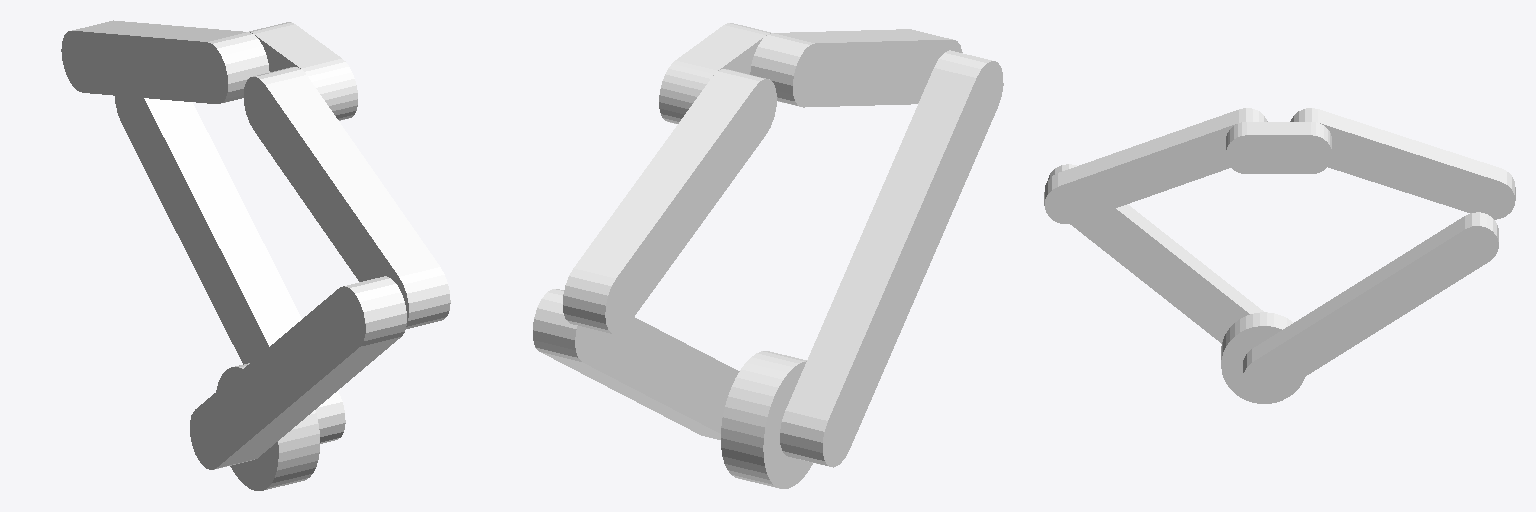
URDF robot description (five_bar_link_wheel):
<?xml version="1.0"?>
<!-- This URDF was automatically created by SolidWorks to URDF Exporter! Originally created by [author] ([email redacted]) 
     Commit Version: 1.6.0-4-g7f85cfe  Build Version: 1.6.7995.38578
     For more information, please see http://wiki.ros.org/sw_urdf_exporter -->
<robot
  name="five_bar_link_wheel">
  <link
    name="base_link">
    <inertial>
      <origin
        xyz="-0.0075 -1.73472347597681E-18 8.67361737988404E-19"
        rpy="0 0 0" />
      <mass
        value="0.0135623889803847" />
      <inertia
        ixx="2.78766795156418E-06"
        ixy="-1.71652986887127E-23"
        ixz="2.95359259330312E-23"
        iyy="6.6710451789183E-07"
        iyz="1.1172040840076E-22"
        izz="2.62915302043677E-06" />
    </inertial>
    <visual>
      <origin
        xyz="0 0 0"
        rpy="0 0 0" />
      <geometry>
        <mesh
          filename="package://five_bar_link/meshes/base_link.STL" />
      </geometry>
      <material
        name="">
        <color
          rgba="1 1 1 1" />
      </material>
    </visual>
    <collision>
      <origin
        xyz="0 0 0"
        rpy="0 0 0" />
      <geometry>
        <mesh
          filename="package://five_bar_link/meshes/base_link.STL" />
      </geometry>
    </collision>
  </link>
  <link
    name="HipLegLeft_Link">
    <inertial>
      <origin
        xyz="0.0385915389101049 0.0231450453564016 -0.00750000000000001"
        rpy="0 0 0" />
      <mass
        value="0.0317123889803847" />
      <inertia
        ixx="9.19613534897071E-06"
        ixy="-1.26449249310354E-05"
        ixz="5.1702299476663E-22"
        iyy="2.2696286372092E-05"
        iyz="-7.81584121835968E-23"
        izz="3.07032071342983E-05" />
    </inertial>
    <visual>
      <origin
        xyz="0 0 0"
        rpy="0 0 0" />
      <geometry>
        <mesh
          filename="package://five_bar_link/meshes/HipLegLeft_Link.STL" />
      </geometry>
      <material
        name="">
        <color
          rgba="1 1 1 1" />
      </material>
    </visual>
    <collision>
      <origin
        xyz="0 0 0"
        rpy="0 0 0" />
      <geometry>
        <mesh
          filename="package://five_bar_link/meshes/HipLegLeft_Link.STL" />
      </geometry>
    </collision>
  </link>
  <joint
    name="HipLegLeft_Joint"
    type="revolute">
    <origin
      xyz="-0.03 0.01475 0"
      rpy="-1.5708 0 1.5708" />
    <parent
      link="base_link" />
    <child
      link="HipLegLeft_Link" />
    <axis
      xyz="0 0 1" />
    <limit
      lower="-1"
      upper="1"
      effort="0"
      velocity="0" />
  </joint>
  <link
    name="KneelLegLeft_Link">
    <inertial>
      <origin
        xyz="0.0600000000000001 6.10622663543836E-16 0.00749999999999999"
        rpy="0 0 0" />
      <mass
        value="0.0407123889803848" />
      <inertia
        ixx="2.08116701789183E-06"
        ixy="4.34104385467829E-21"
        ixz="3.25026889091675E-22"
        iyy="6.34457673472768E-05"
        iyz="3.66564838745911E-23"
        izz="6.40002197784042E-05" />
    </inertial>
    <visual>
      <origin
        xyz="0 0 0"
        rpy="0 0 0" />
      <geometry>
        <mesh
          filename="package://five_bar_link/meshes/KneelLegLeft_Link.STL" />
      </geometry>
      <material
        name="">
        <color
          rgba="1 1 1 1" />
      </material>
    </visual>
    <collision>
      <origin
        xyz="0 0 0"
        rpy="0 0 0" />
      <geometry>
        <mesh
          filename="package://five_bar_link/meshes/KneelLegLeft_Link.STL" />
      </geometry>
    </collision>
  </link>
  <joint
    name="KneelLegLeft_Joint"
    type="revolute">
    <origin
      xyz="0.077183 0.04629 -0.03"
      rpy="0 0 2.5378" />
    <parent
      link="HipLegLeft_Link" />
    <child
      link="KneelLegLeft_Link" />
    <axis
      xyz="0 0 1" />
    <limit
      lower="-1"
      upper="1"
      effort="0"
      velocity="0" />
  </joint>
  <link
    name="Wheel_Link">
    <inertial>
      <origin
        xyz="0 0 -0.00750000000000001"
        rpy="0 0 0" />
      <mass
        value="0.0188495559215387" />
      <inertia
        ixx="2.23838476568273E-06"
        ixy="-3.64210794158237E-41"
        ixz="7.80738329970698E-23"
        iyy="2.23838476568273E-06"
        iyz="7.10087278435785E-23"
        izz="3.76991118430775E-06" />
    </inertial>
    <visual>
      <origin
        xyz="0 0 0"
        rpy="0 0 0" />
      <geometry>
        <mesh
          filename="package://five_bar_link/meshes/Wheel_Link.STL" />
      </geometry>
      <material
        name="">
        <color
          rgba="1 1 1 1" />
      </material>
    </visual>
    <collision>
      <origin
        xyz="0 0 0"
        rpy="0 0 0" />
      <geometry>
        <mesh
          filename="package://five_bar_link/meshes/Wheel_Link.STL" />
      </geometry>
    </collision>
  </link>

  <joint
    name="Wheel_Joint"
    type="continuous">
    <origin
      xyz="0.12 0 0.03"
      rpy="0 0 0" />
    <parent
      link="KneelLegLeft_Link" />
    <child
      link="Wheel_Link" />
    <axis
      xyz="0 0 1" />
  </joint>
  <link
    name="HipLegRight_Link">
    <inertial>
      <origin
        xyz="0.0413172682255292 -0.0178292833950133 -0.00750000000000001"
        rpy="0 0 0" />
      <mass
        value="0.0317123889803847" />
      <inertia
        ixx="6.11263860111646E-06"
        ixy="1.04287344650325E-05"
        ixz="1.6561530048464E-21"
        iyy="2.57797831199463E-05"
        iyz="-3.8721004588062E-22"
        izz="3.07032071342983E-05" />
    </inertial>
    <visual>
      <origin
        xyz="0 0 0"
        rpy="0 0 0" />
      <geometry>
        <mesh
          filename="package://five_bar_link/meshes/HipLegRight_Link.STL" />
      </geometry>
      <material
        name="">
        <color
          rgba="1 1 1 1" />
      </material>
    </visual>
    <collision>
      <origin
        xyz="0 0 0"
        rpy="0 0 0" />
      <geometry>
        <mesh
          filename="package://five_bar_link/meshes/HipLegRight_Link.STL" />
      </geometry>
    </collision>
  </link>
  <joint
    name="HipLegRight_Joint"
    type="revolute">
    <origin
      xyz="-0.03 -0.01475 0"
      rpy="1.5708 0 -1.5708" />
    <parent
      link="base_link" />
    <child
      link="HipLegRight_Link" />
    <axis
      xyz="0 0 1" />
    <limit
      lower="-1"
      upper="1"
      effort="0"
      velocity="0" />
  </joint>
  <link
    name="KneelLegRight_Link">
    <inertial>
      <origin
        xyz="0.0599999999999999 -7.7715611723761E-16 -0.00750000000000001"
        rpy="0 0 0" />
      <mass
        value="0.0407123889803847" />
      <inertia
        ixx="2.08116701789183E-06"
        ixy="-8.25857123572943E-21"
        ixz="-3.52780935291046E-22"
        iyy="6.34457673472768E-05"
        iyz="-4.16917738395054E-22"
        izz="6.40002197784042E-05" />
    </inertial>
    <visual>
      <origin
        xyz="0 0 0"
        rpy="0 0 0" />
      <geometry>
        <mesh
          filename="package://five_bar_link/meshes/KneelLegRight_Link.STL" />
      </geometry>
      <material
        name="">
        <color
          rgba="1 1 1 1" />
      </material>
    </visual>
    <collision>
      <origin
        xyz="0 0 0"
        rpy="0 0 0" />
      <geometry>
        <mesh
          filename="package://five_bar_link/meshes/KneelLegRight_Link.STL" />
      </geometry>
    </collision>
  </link>
  <joint
    name="KneelLegRight_Joint"
    type="revolute">
    <origin
      xyz="0.082635 -0.035659 0.015"
      rpy="0 0 -2.4256" />
    <parent
      link="HipLegRight_Link" />
    <child
      link="KneelLegRight_Link" />
    <axis
      xyz="0 0 1" />
    <limit
      lower="-1"
      upper="1"
      effort="0"
      velocity="0" />
  </joint>

  <gazebo>

      <joint name='WheelJointFixed' type='revolute'>
      <pose relative_to='KneelLegRight_Link'>0.120 0 0.0 0 0 0</pose>
      <parent>KneelLegRight_Link</parent>
      <child>Wheel_Link</child>
      <axis>
        <xyz>0 0 1</xyz>
        <limit>
          <lower>-2</lower>
          <upper>2</upper>
          <effort>20</effort>
          <velocity>30</velocity>
        </limit>
      </axis>
      <dynamic>
        <friction>0.01</friction>
        <damping>0.01</damping>
      </dynamic>
    </joint>

  </gazebo>

  <gazebo>

    <plugin name="gazebo_ros_joint_state_publisher"
      filename="libgazebo_ros_joint_state_publisher.so">
      <ros>
        <namespace>/</namespace>
        <argument>joint_states:=joint_states</argument>
      </ros>
      <update_rate>10</update_rate>
      <joint_name>HipLegLeft_Joint</joint_name>
      <joint_name>HipLegRight_Joint</joint_name>
      <joint_name>KneelLegLeft_Joint</joint_name>
      <joint_name>KneelLegRight_Joint</joint_name>
      <joint_name>Wheel_Joint</joint_name>
      <joint_name>WheelJointFixed</joint_name>


    </plugin>

  </gazebo>


</robot>

--- Facts derived from the render (not from the file) ---
The picture shows the robot from 3 angles, left to right: view 1: azimuth 30°, elevation 25°; view 2: azimuth 150°, elevation 25°; view 3: azimuth 270°, elevation 25°; orthographic projection.
Model five_bar_link_wheel with 6 links and 5 joints (4 revolute, 1 continuous), rooted at base_link, posed every joint at zero.
Visible links, largest first — view 1: KneelLegLeft_Link, HipLegRight_Link, KneelLegRight_Link, HipLegLeft_Link, base_link, Wheel_Link; view 2: KneelLegRight_Link, HipLegLeft_Link, KneelLegLeft_Link, HipLegRight_Link, Wheel_Link, base_link; view 3: KneelLegLeft_Link, HipLegRight_Link, HipLegLeft_Link, KneelLegRight_Link, base_link, Wheel_Link.
Boxes of the visible links, x1,y1,x2,y2 form: KneelLegLeft_Link: [115, 96, 345, 443]; HipLegRight_Link: [244, 67, 450, 328]; KneelLegRight_Link: [190, 276, 406, 469]; HipLegLeft_Link: [61, 20, 269, 103]; base_link: [249, 22, 357, 120]; Wheel_Link: [216, 363, 319, 490]; KneelLegRight_Link: [780, 50, 1003, 467]; HipLegLeft_Link: [563, 69, 776, 334]; KneelLegLeft_Link: [533, 289, 739, 439]; HipLegRight_Link: [750, 29, 962, 107]; Wheel_Link: [721, 351, 812, 488]; base_link: [659, 23, 770, 123]; KneelLegLeft_Link: [1243, 212, 1498, 397]; HipLegRight_Link: [1044, 108, 1267, 223]; HipLegLeft_Link: [1290, 108, 1515, 219]; KneelLegRight_Link: [1048, 164, 1263, 343]; base_link: [1226, 122, 1331, 173]; Wheel_Link: [1221, 312, 1304, 403].
Bounding box of the posed robot: 0.045 × 0.2181 × 0.1444 m (x, y, z).
Meshes: 6 distinct files referenced, 6 mesh visuals loaded (6 binary STL).